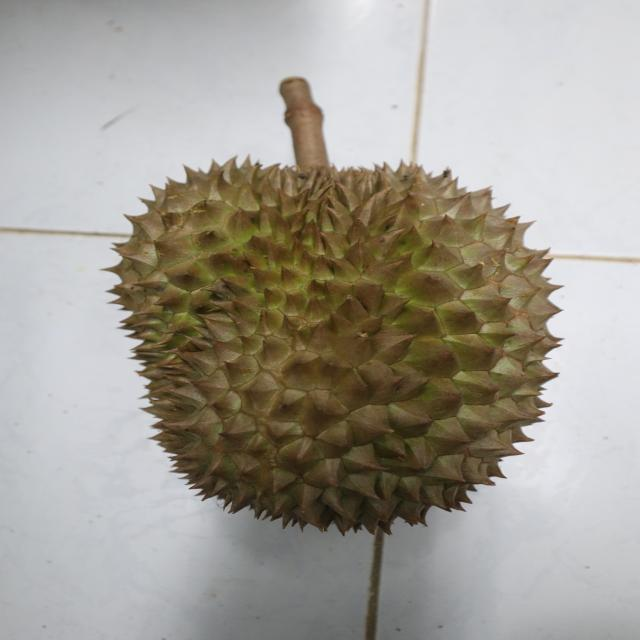mature: (95, 154, 567, 536)
